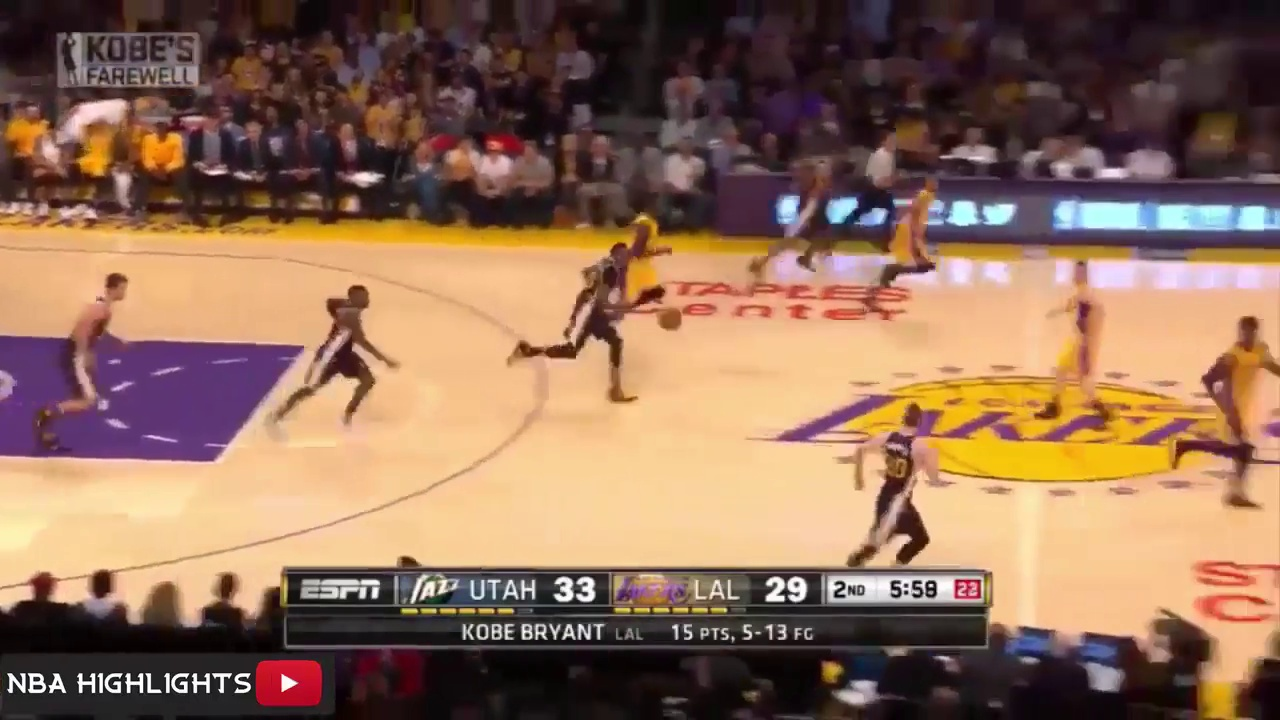jazz: (33, 267, 148, 455), (269, 275, 400, 439), (841, 397, 960, 571), (521, 254, 636, 415), (754, 164, 855, 284)
lakers: (1152, 305, 1276, 513), (1043, 247, 1116, 437), (870, 168, 956, 313), (619, 194, 690, 321)
